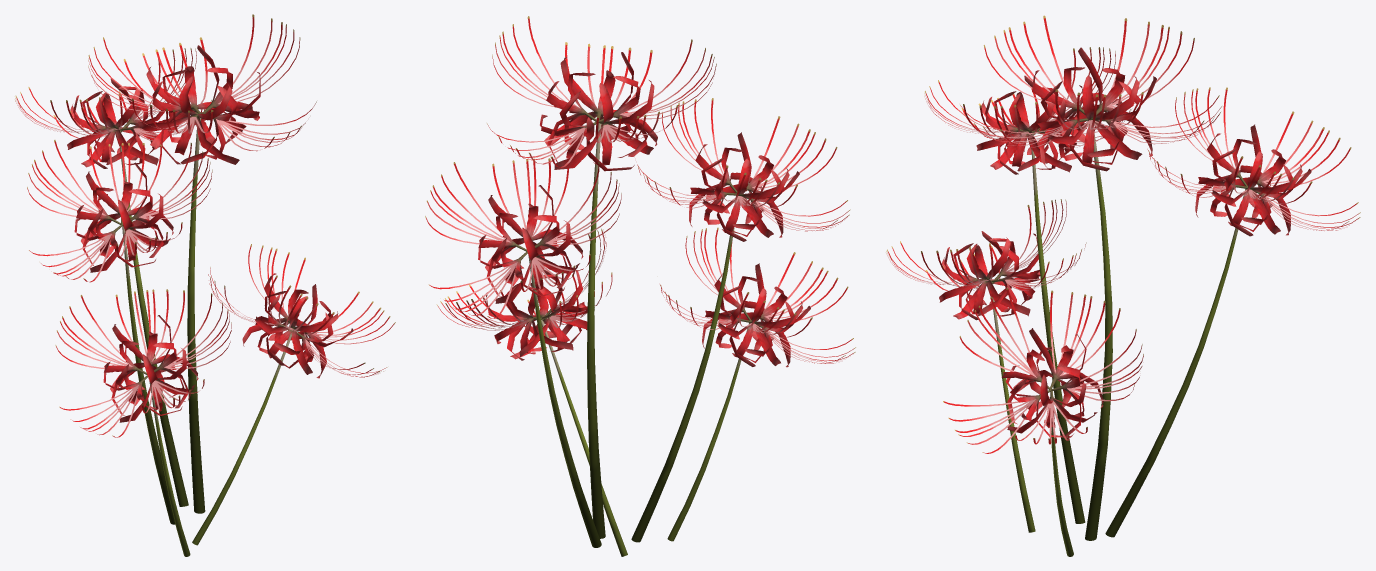
Rendered from JT_Gy_Fol_Higanbana_A_03.fbx.
3 views of the same model, side by side, from view 1: azimuth 30°, elevation 25°; view 2: azimuth 150°, elevation 25°; view 3: azimuth 270°, elevation 25° (orthographic). The views are drawn at different scales.
Parts seen in each view (by area): view 1: JT_Gy_Fol_Higanbana_A_03, JT_Gy_Fol_Higanbana_A_03_LOD0; view 2: JT_Gy_Fol_Higanbana_A_03_LOD0, JT_Gy_Fol_Higanbana_A_03; view 3: JT_Gy_Fol_Higanbana_A_03, JT_Gy_Fol_Higanbana_A_03_LOD0.
Boxes of the visible parts, bbox=[...] form: JT_Gy_Fol_Higanbana_A_03: bbox=[15, 14, 383, 556]; JT_Gy_Fol_Higanbana_A_03_LOD0: bbox=[18, 24, 395, 554]; JT_Gy_Fol_Higanbana_A_03_LOD0: bbox=[432, 16, 855, 556]; JT_Gy_Fol_Higanbana_A_03: bbox=[425, 35, 838, 554]; JT_Gy_Fol_Higanbana_A_03: bbox=[889, 18, 1360, 556]; JT_Gy_Fol_Higanbana_A_03_LOD0: bbox=[886, 15, 1349, 556].
Size of what is drawn, in the model's own units: 1.1 by 1.4 by 1.17.
